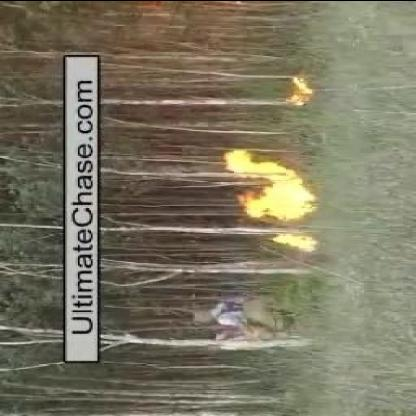foggia-v2-map80-epoch100 - v1 4323: (228, 150, 318, 252)
